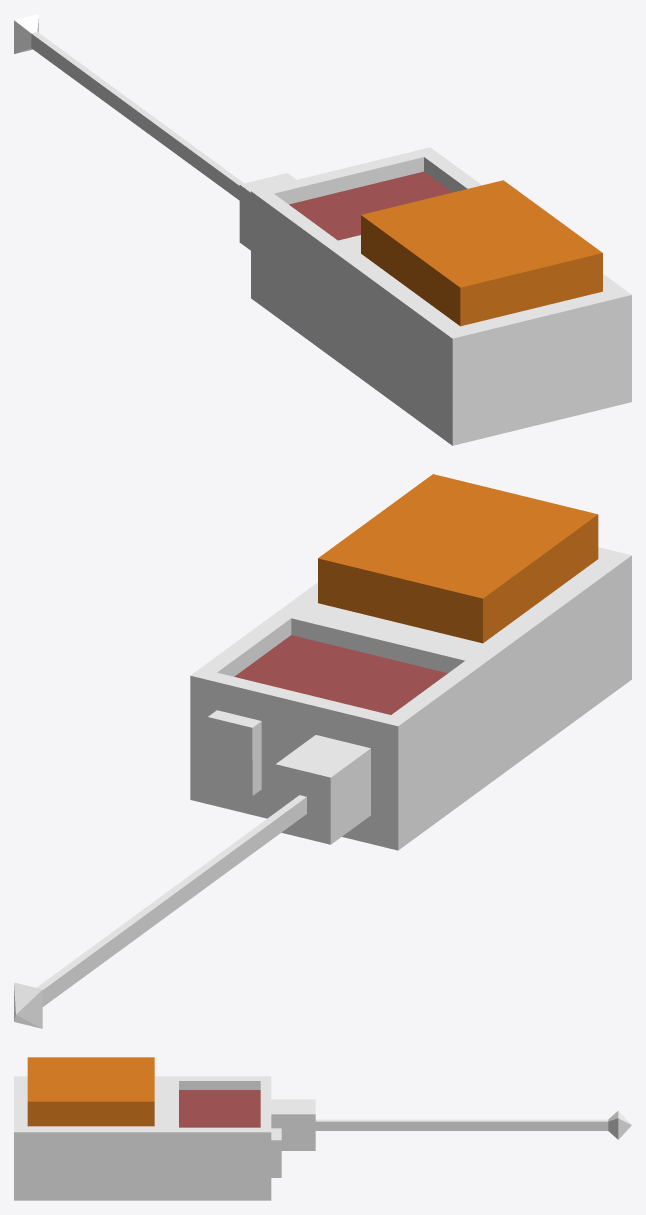
Rendered from Char_CR_Acc_Button.FBX.
The picture shows the model from 3 angles, top to bottom: view 1: azimuth 30°, elevation 25°; view 2: azimuth 150°, elevation 25°; view 3: azimuth 270°, elevation 25°; orthographic projection. The views are drawn at different scales.
Parts seen in each view (by area): view 1: Box004; view 2: Box004; view 3: Box004.
Part boxes in pixels (x1=…): Box004: x1=14, y1=14, x2=631, y2=445; Box004: x1=14, y1=474, x2=631, y2=1028; Box004: x1=14, y1=1057, x2=631, y2=1200.
Bounding box in the file's own units: 7.65 × 5.94 × 35.75.
